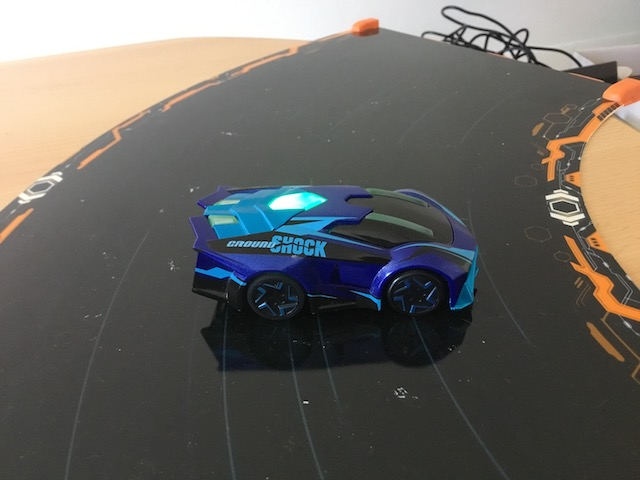car-blue: (184, 175, 482, 329)
